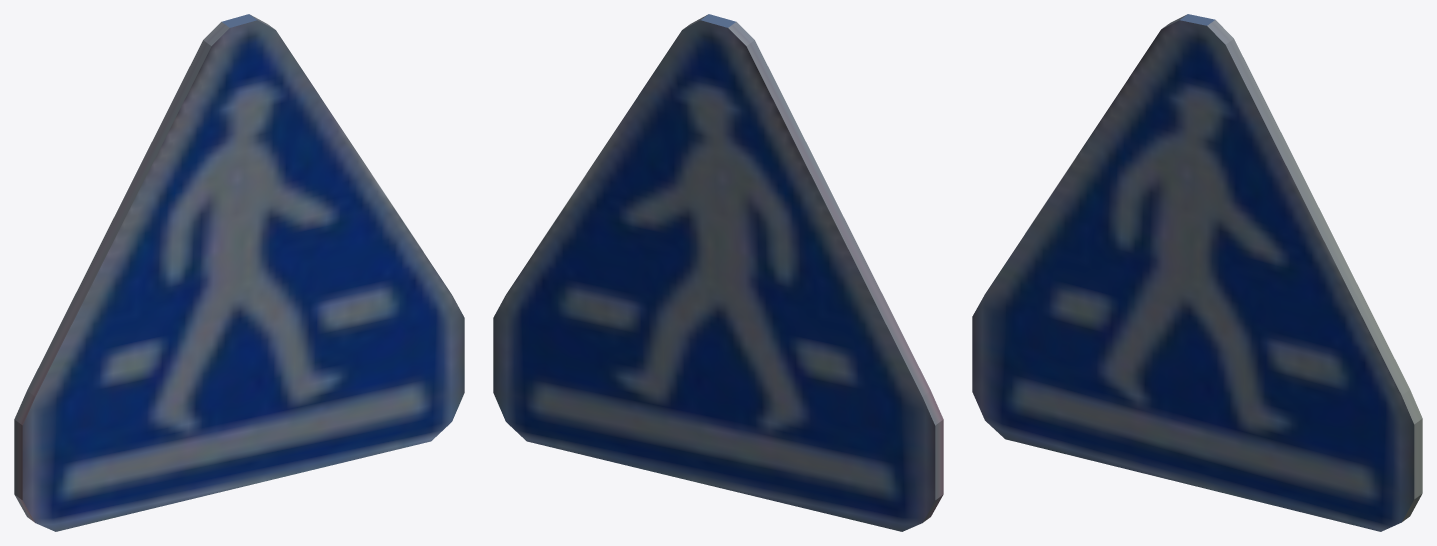
The model's file is SignCrossing.fbx.
The picture shows the model from 3 angles, left to right: view 1: azimuth 30°, elevation 25°; view 2: azimuth 150°, elevation 25°; view 3: azimuth 330°, elevation 25°; orthographic projection.
Parts seen in each view (by area): view 1: SignCrossing; view 2: SignCrossing; view 3: SignCrossing.
Boxes of the visible parts, bbox=[...] form: SignCrossing: bbox=[14, 14, 464, 531]; SignCrossing: bbox=[493, 14, 943, 531]; SignCrossing: bbox=[972, 14, 1422, 531].
Size of the model in its own units: 260 by 261 by 8.63.
1 material, 1 textured.
